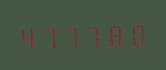eight: (106, 19, 127, 48)
four: (17, 22, 38, 51)
seven: (84, 19, 105, 49), (39, 21, 60, 50), (62, 20, 83, 49)
zero: (128, 18, 149, 47)
